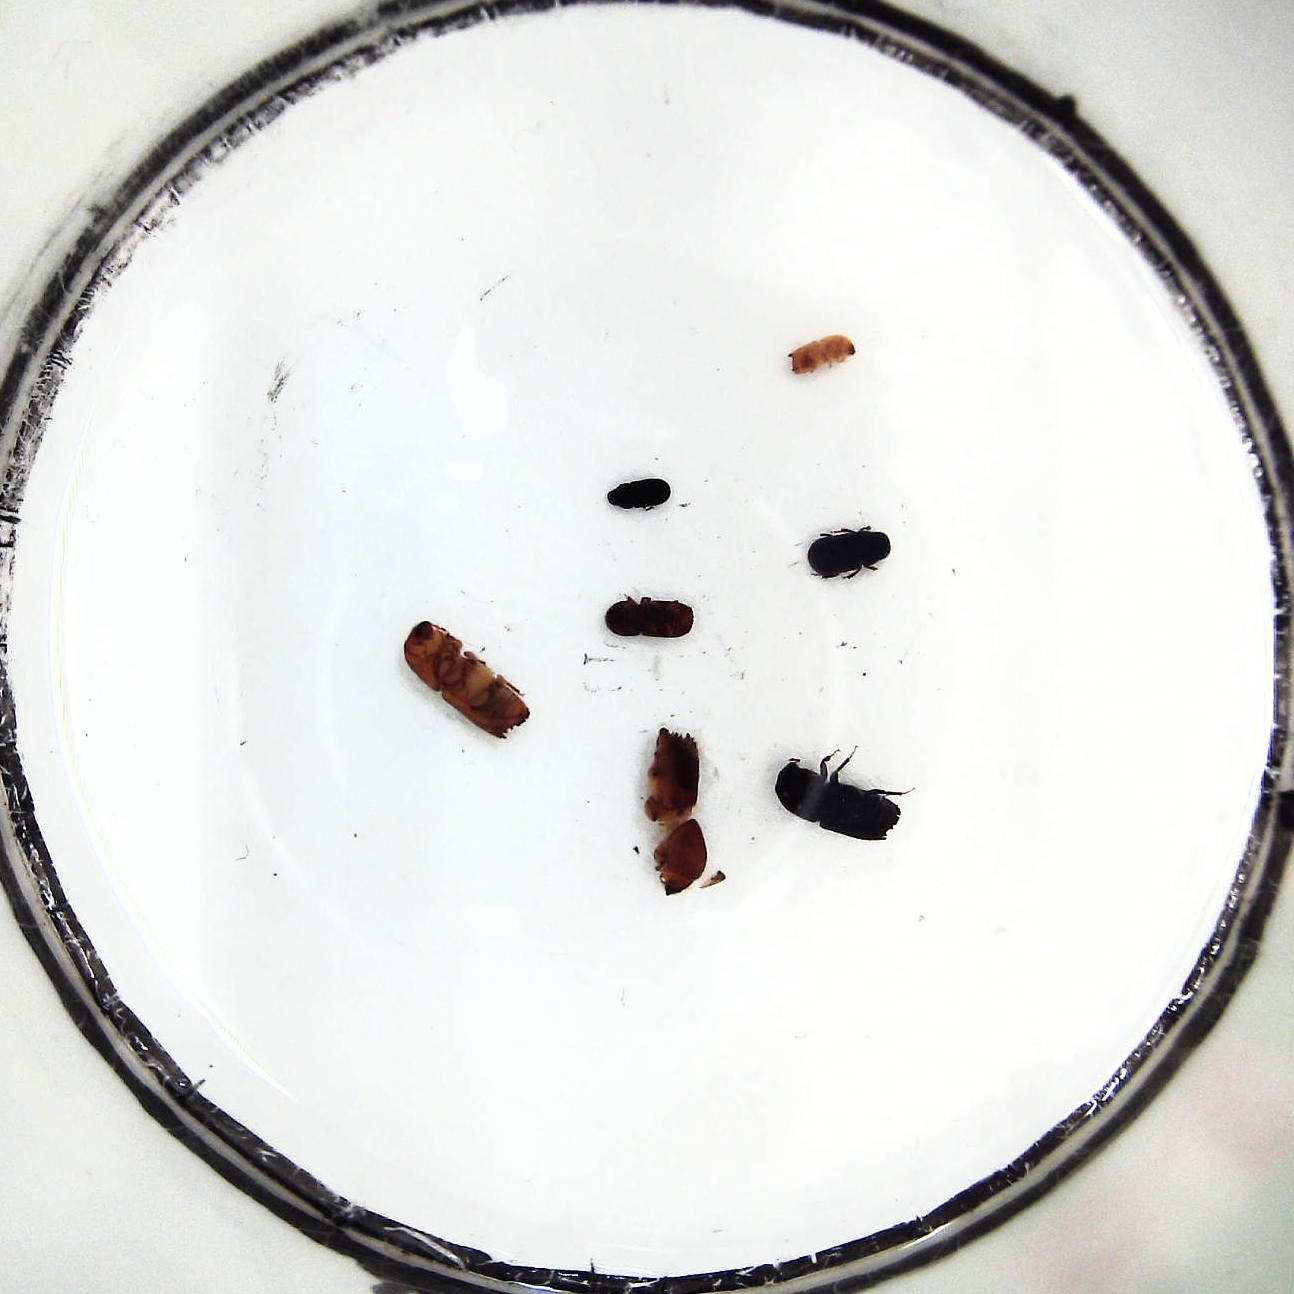Boerner: (401, 616, 531, 747), (771, 742, 918, 841), (643, 726, 713, 898)
Linnaeus: (604, 591, 696, 641)
acuminatus: (788, 335, 857, 376)
armandi: (807, 525, 893, 579)
coleoptera: (607, 475, 671, 513)
